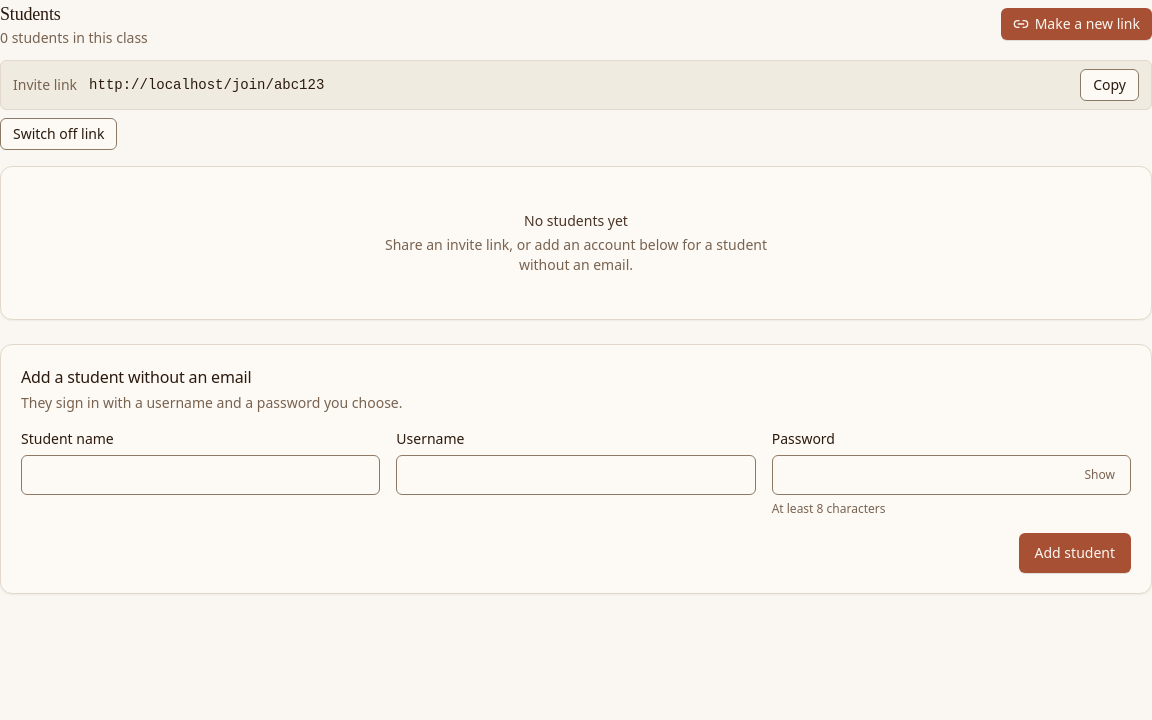
Test: cancelling the switch-off sends nothing
Click the button "Switch off link" at (59, 134), box [0, 118, 118, 150]
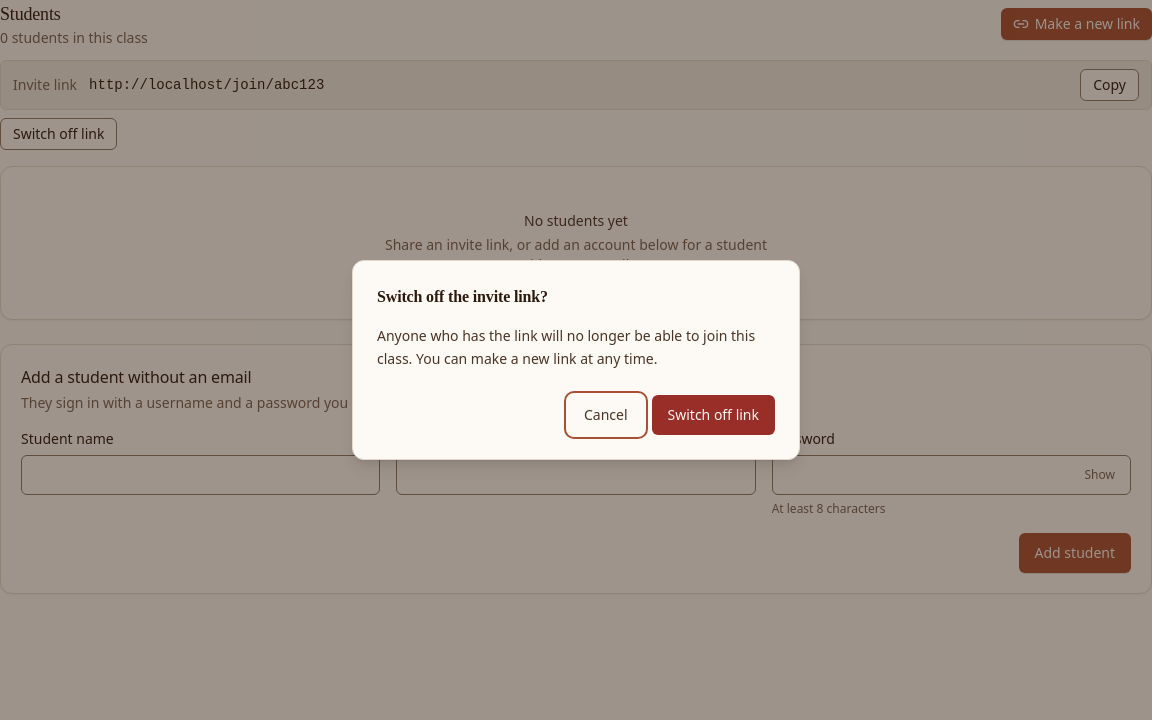
Click the button "Cancel" at (606, 415), box [568, 395, 644, 435]
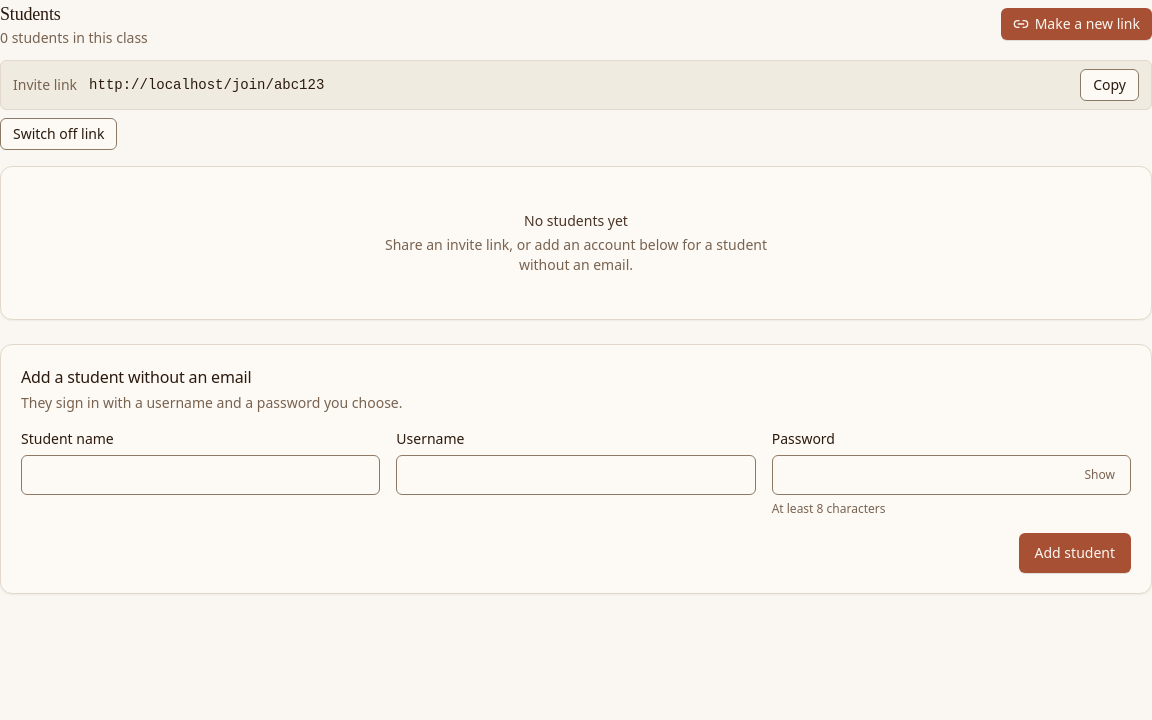
Check: the button "Switch off link" is shown, box [0, 118, 118, 150]
Check: the dialog is gone
